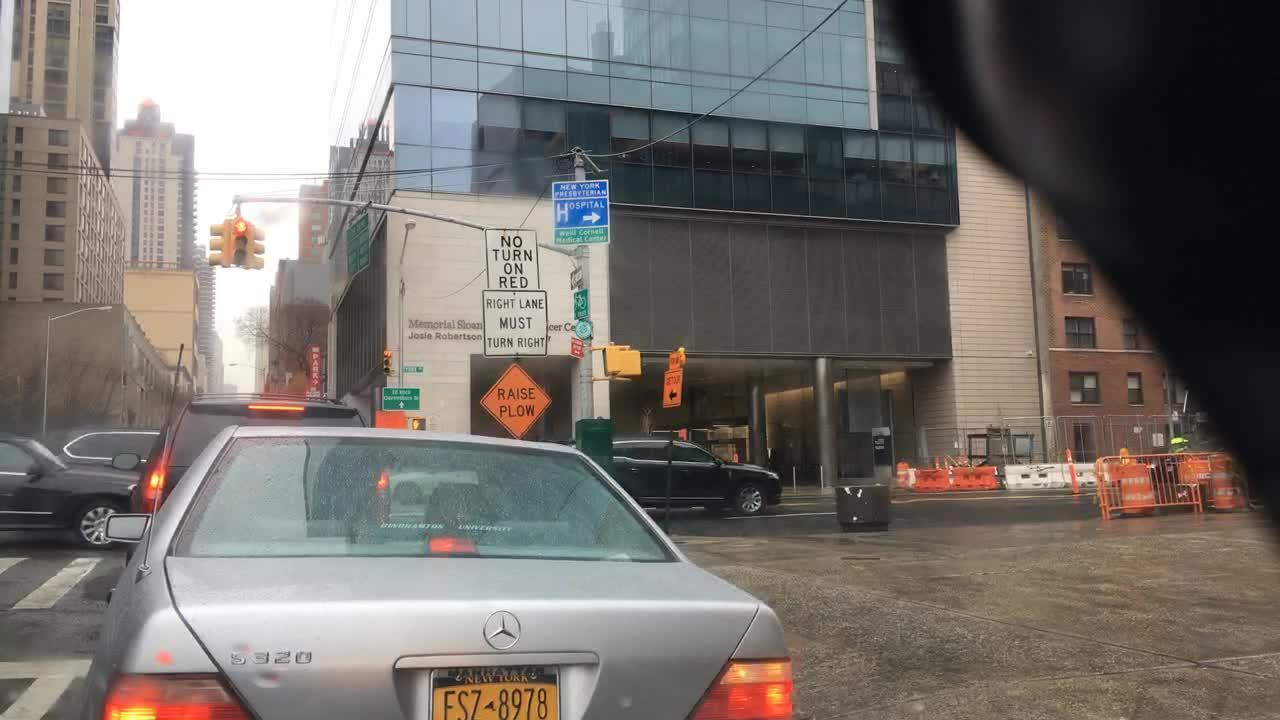Mercedes: (479, 607, 526, 654)
